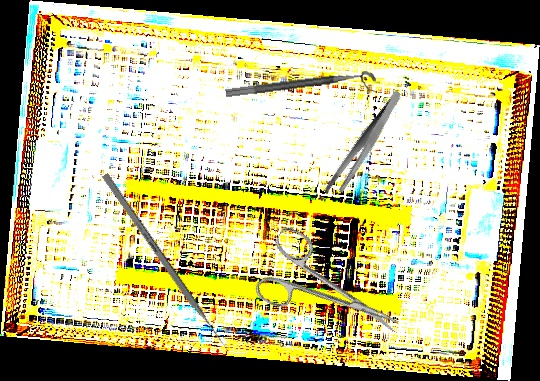Dressing Forceps: (305, 89, 424, 201)
Fixation Ring: (225, 69, 378, 111)
Iris Scissors: (247, 224, 414, 363)
Pusher: (100, 172, 233, 356)
